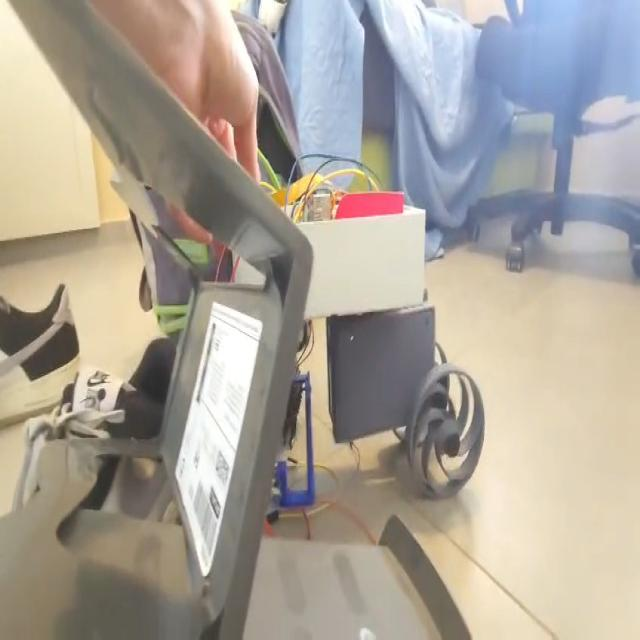Robot: (228, 184, 484, 511)
